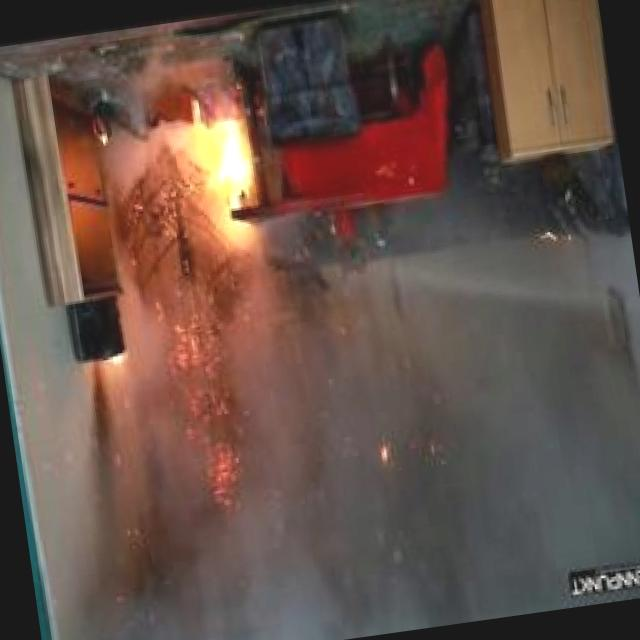fire: (158, 105, 296, 278)
